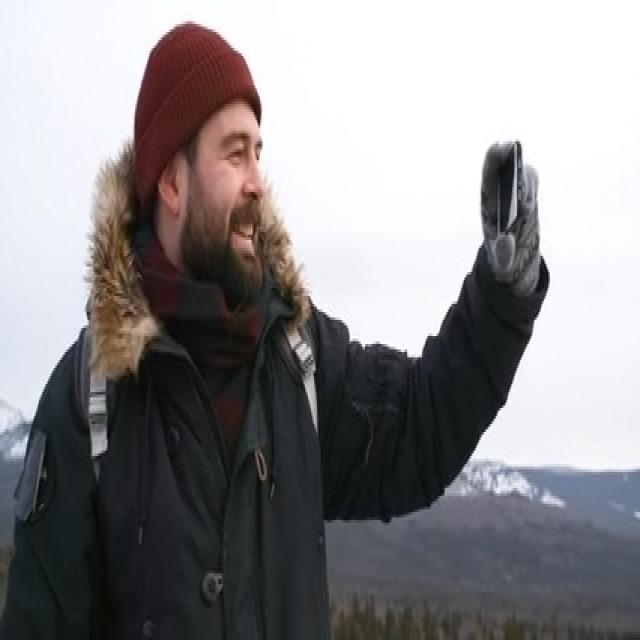Jacket_Wearer: (16, 279, 543, 640)
Person: (0, 32, 548, 640)
